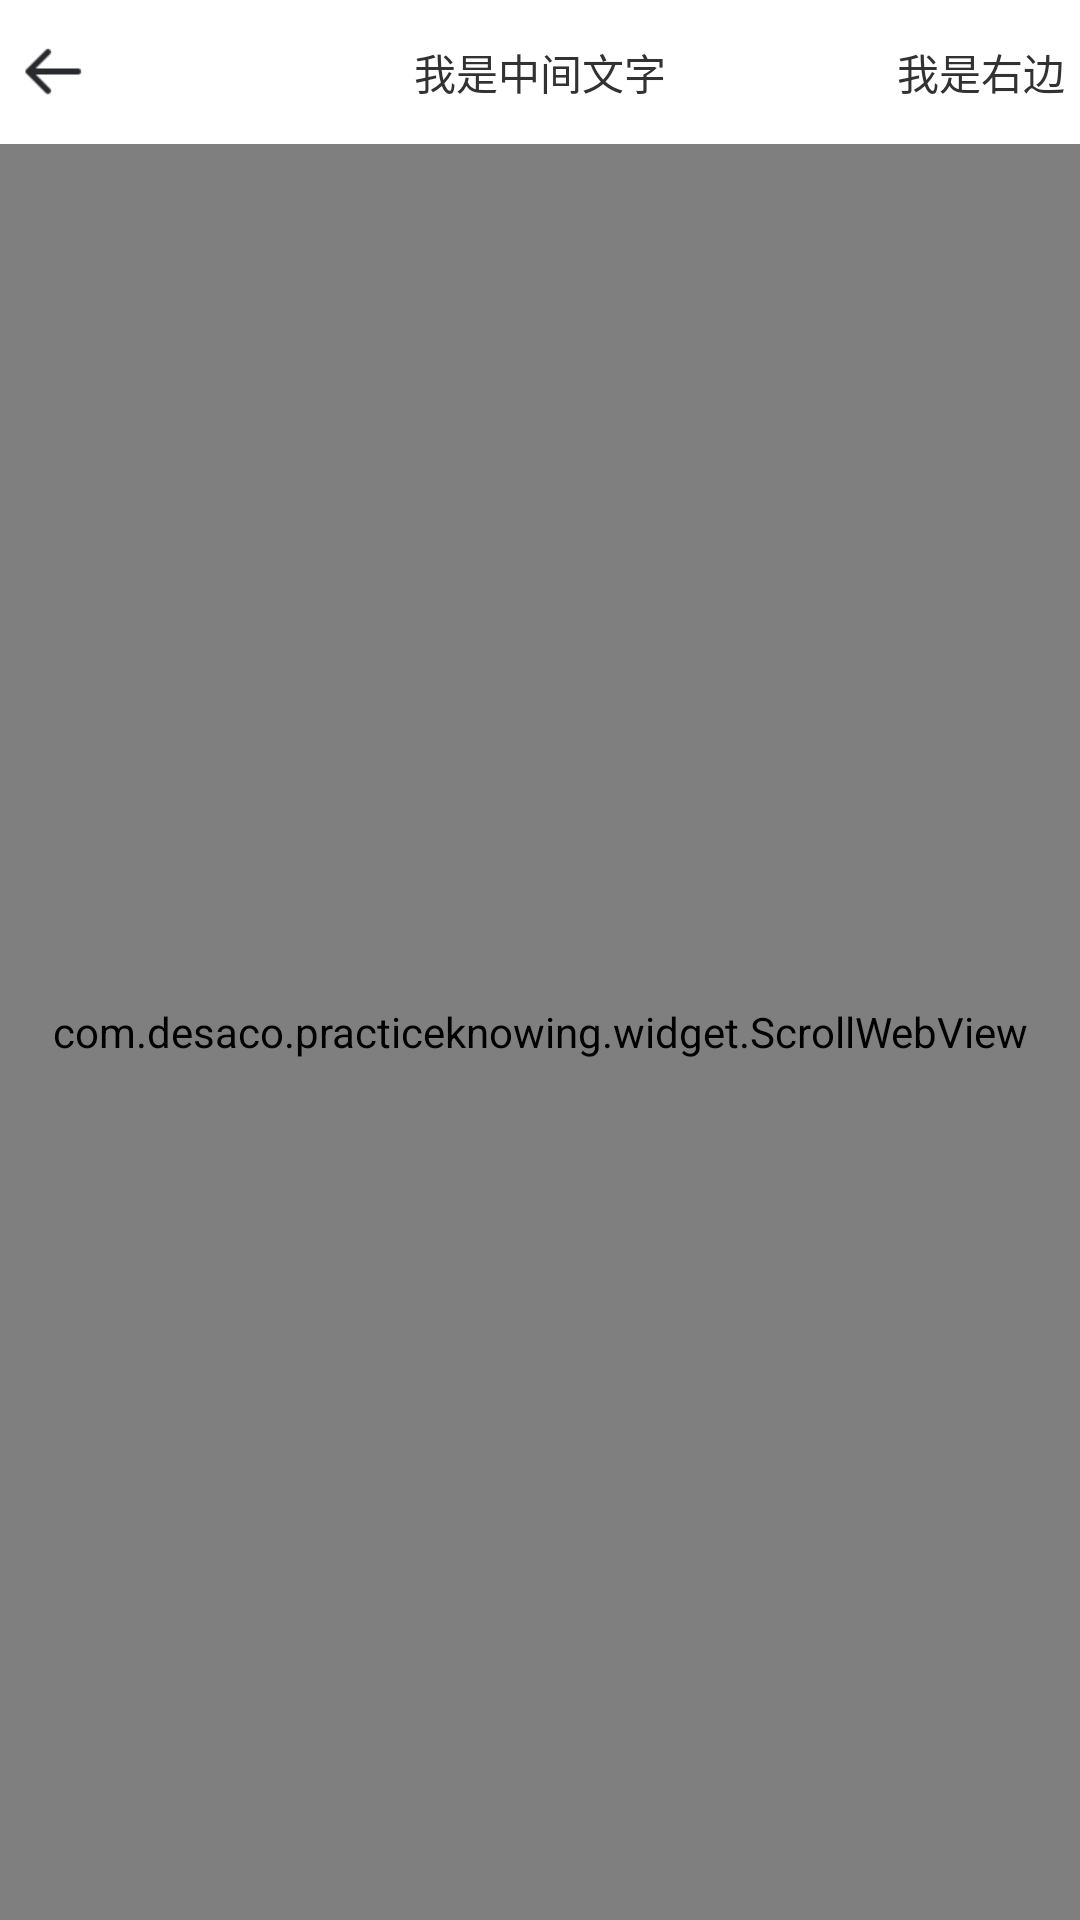

Where icons sit on this 1080x1920 app screen, as (x1, y1, x2, y2):
back: (25, 48, 82, 95)
